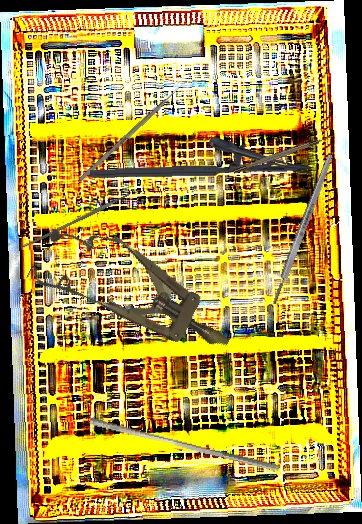Hook Surgical: (232, 133, 336, 174)
Needle Holder: (89, 135, 312, 179)
Pusher: (78, 79, 189, 182), (86, 416, 283, 473)
Scalpel Handle: (269, 153, 336, 306), (19, 192, 131, 251)
Speculum: (24, 208, 248, 379)
